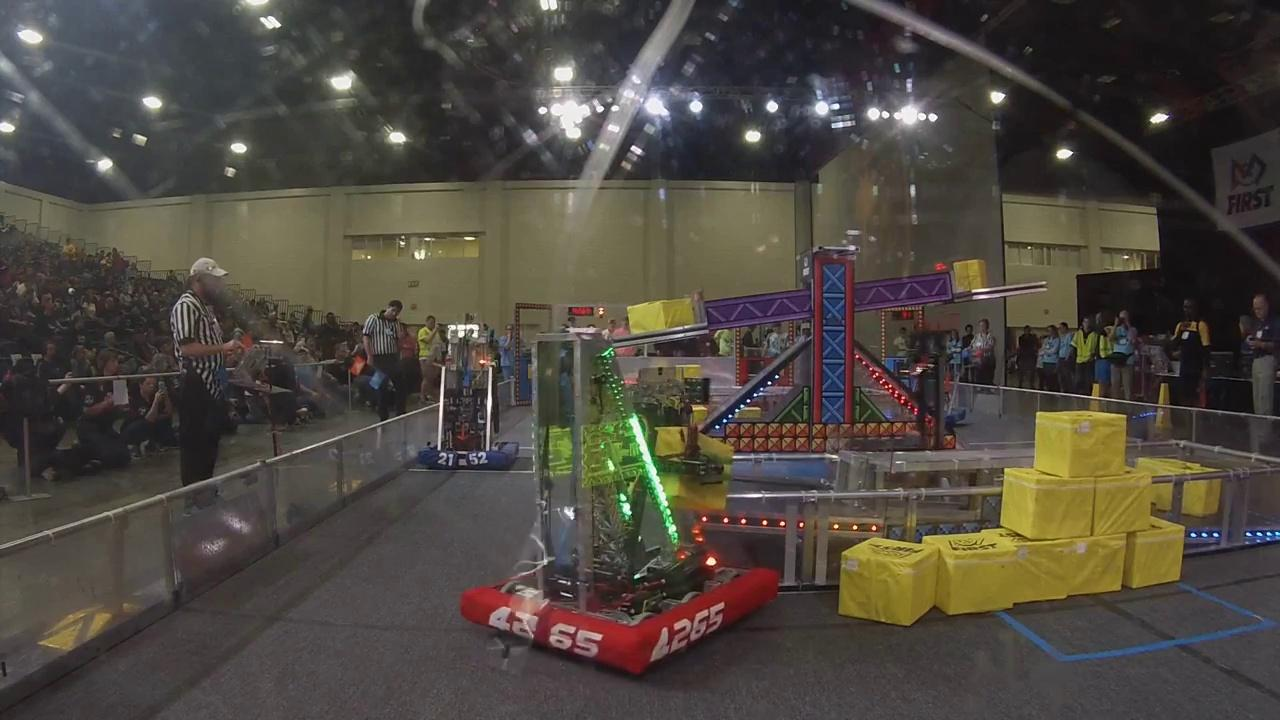robot: (462, 326, 782, 682), (415, 324, 521, 474)
